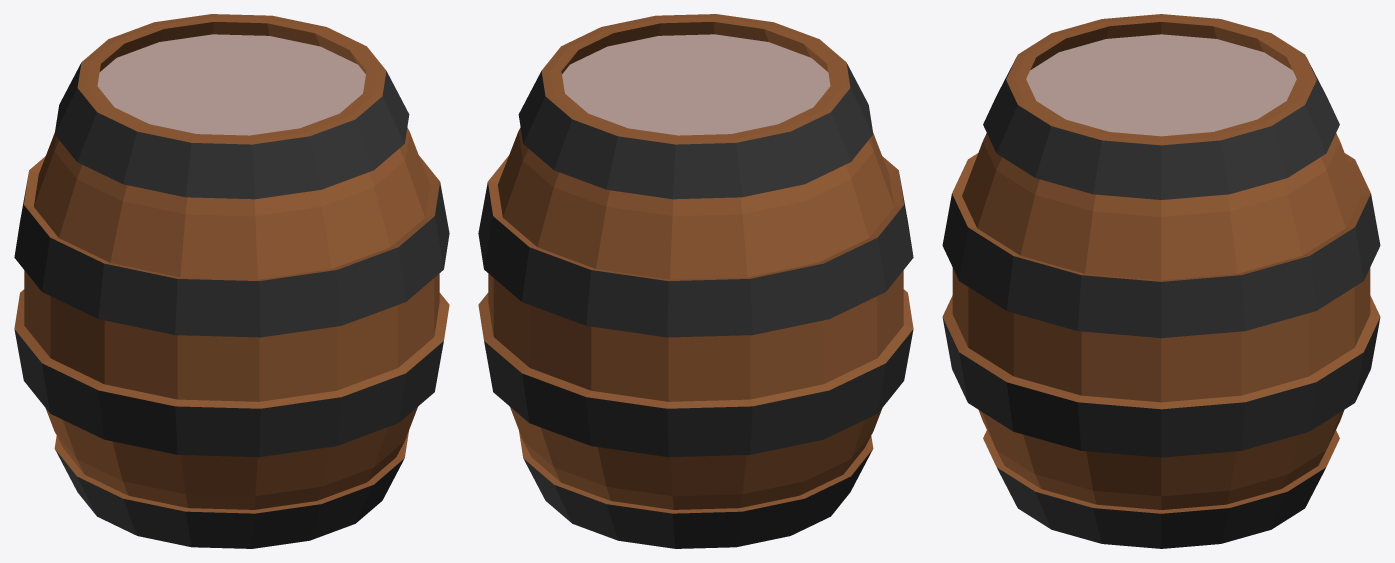
Rendered from 22QmtJi62zQ.glb.
3 views of the same model, side by side, from view 1: azimuth 30°, elevation 25°; view 2: azimuth 150°, elevation 25°; view 3: azimuth 270°, elevation 25° (orthographic).
Visible parts, largest first — view 1: Cylinder002; view 2: Cylinder002; view 3: Cylinder002.
Part boxes in pixels (left/top/right/bottom): Cylinder002: left=14, top=14, right=449, bottom=548; Cylinder002: left=478, top=14, right=913, bottom=548; Cylinder002: left=942, top=14, right=1380, bottom=548.
Size of the model in its own units: 0.9822 by 1 by 0.9822.
